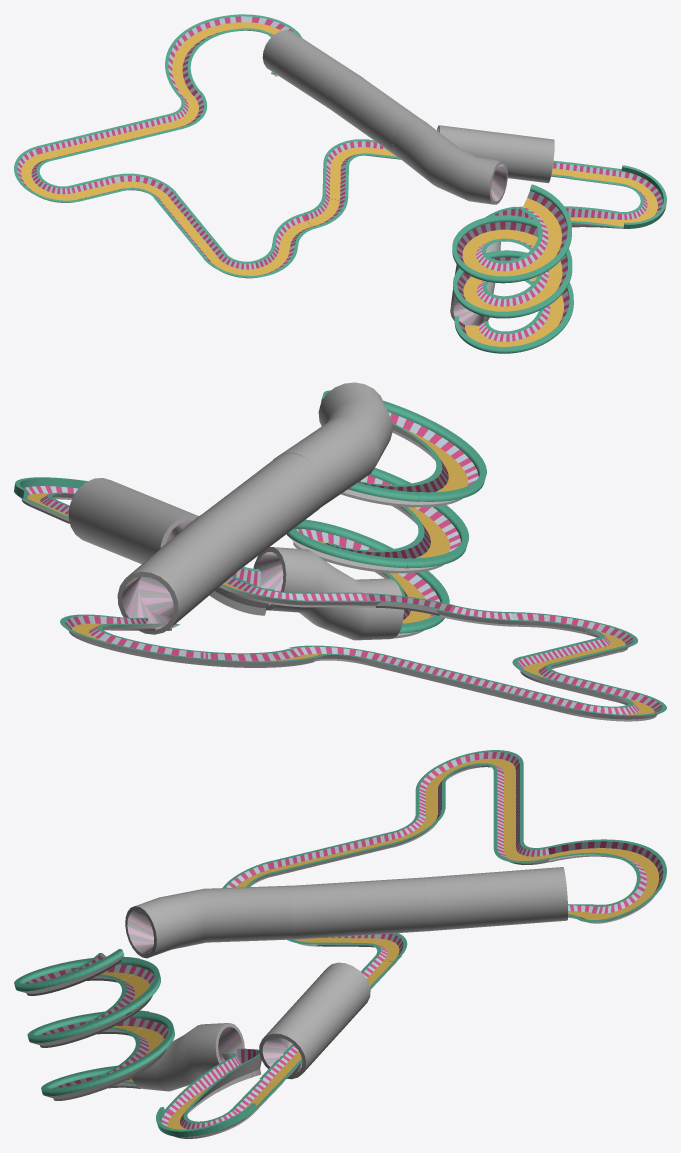
The model's file is Track_01.fbx.
The picture shows the model from 3 angles, top to bottom: view 1: azimuth 30°, elevation 25°; view 2: azimuth 150°, elevation 25°; view 3: azimuth 270°, elevation 25°; orthographic projection. The views are drawn at different scales.
Visible parts, largest first — view 1: polySurface3, pPipe6, polySurface4, pPipe3, pCube11 (×2), pCube14 (×2), pCube15 (×2), pCube42, pCube12 (×2), test:figure8track:pCube11, pCube44, pCube16 (+22 smaller); view 2: polySurface4, polySurface5, polySurface3, pPipe6, pPipe3, pCube15 (×2), pCube44, pCube11 (×2), pCube14 (×2), pCube45, test:pCube14, test:figure8track:pCube11 (+23 smaller); view 3: polySurface3, polySurface4, pPipe3, pPipe6, polySurface5, pCube14 (×2), pCube12 (×2), pCube15 (×2), pCube17, test:pCube12, pCube42, test:pCube14 (+22 smaller).
Boxes of the visible parts, left/top/right/bottom form: polySurface3: left=392, top=118, right=507, bottom=204; pPipe6: left=437, top=125, right=554, bottom=183; polySurface4: left=262, top=30, right=362, bottom=109; pPipe3: left=327, top=75, right=420, bottom=156; pCube11 (×2): left=14, top=146, right=570, bottom=318; pCube14 (×2): left=245, top=14, right=528, bottom=250; pCube15 (×2): left=171, top=91, right=507, bottom=318; pCube42: left=520, top=184, right=571, bottom=248; pCube12 (×2): left=81, top=124, right=572, bottom=280; test:figure8track:pCube11: left=508, top=303, right=573, bottom=353; pCube44: left=494, top=240, right=569, bottom=283; pCube16: left=174, top=14, right=250, bottom=50; polySurface4: left=117, top=510, right=247, bottom=634; polySurface5: left=253, top=547, right=403, bottom=640; polySurface3: left=273, top=382, right=392, bottom=507; pPipe6: left=68, top=478, right=198, bottom=564; pPipe3: left=204, top=453, right=326, bottom=568; pCube15 (×2): left=289, top=523, right=468, bottom=664; pCube44: left=386, top=402, right=484, bottom=474; pCube11 (×2): left=361, top=468, right=657, bottom=721; pCube14 (×2): left=60, top=481, right=419, bottom=642; pCube45: left=406, top=461, right=486, bottom=507; test:pCube14: left=292, top=532, right=409, bottom=573; test:figure8track:pCube11: left=333, top=526, right=442, bottom=596; polySurface3: left=125, top=885, right=292, bottom=958; polySurface4: left=423, top=867, right=567, bottom=931; pPipe3: left=290, top=877, right=433, bottom=939; pPipe6: left=259, top=962, right=370, bottom=1079; polySurface5: left=132, top=1023, right=244, bottom=1091; pCube14 (×2): left=112, top=888, right=660, bottom=1011; pCube12 (×2): left=45, top=790, right=523, bottom=1046; pCube15 (×2): left=50, top=842, right=549, bottom=1035; pCube17: left=548, top=839, right=644, bottom=862; test:pCube12: left=65, top=1048, right=161, bottom=1098; pCube42: left=28, top=949, right=124, bottom=994; test:pCube14: left=123, top=1012, right=174, bottom=1061.
Bounding box in the file's own units: 5809 × 1849 × 5143.
